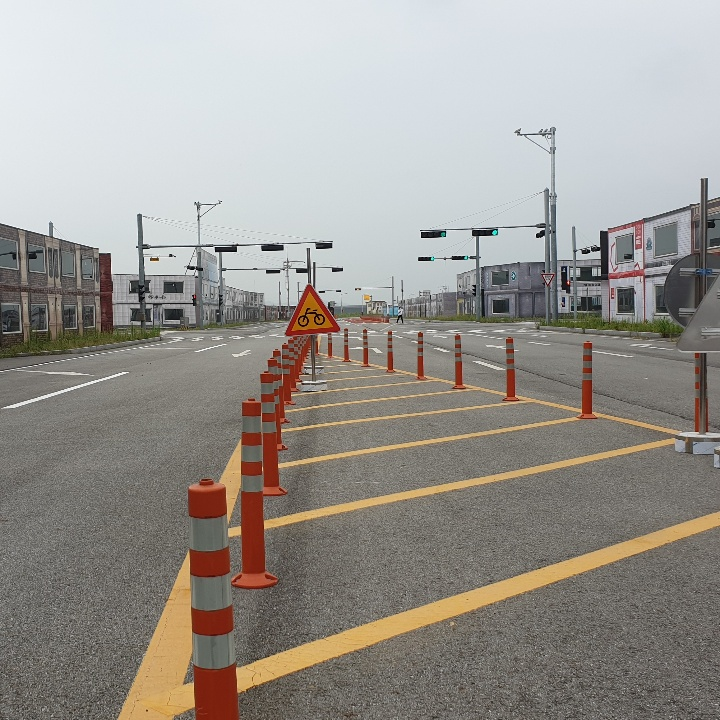bicycle: (284, 281, 340, 339)
